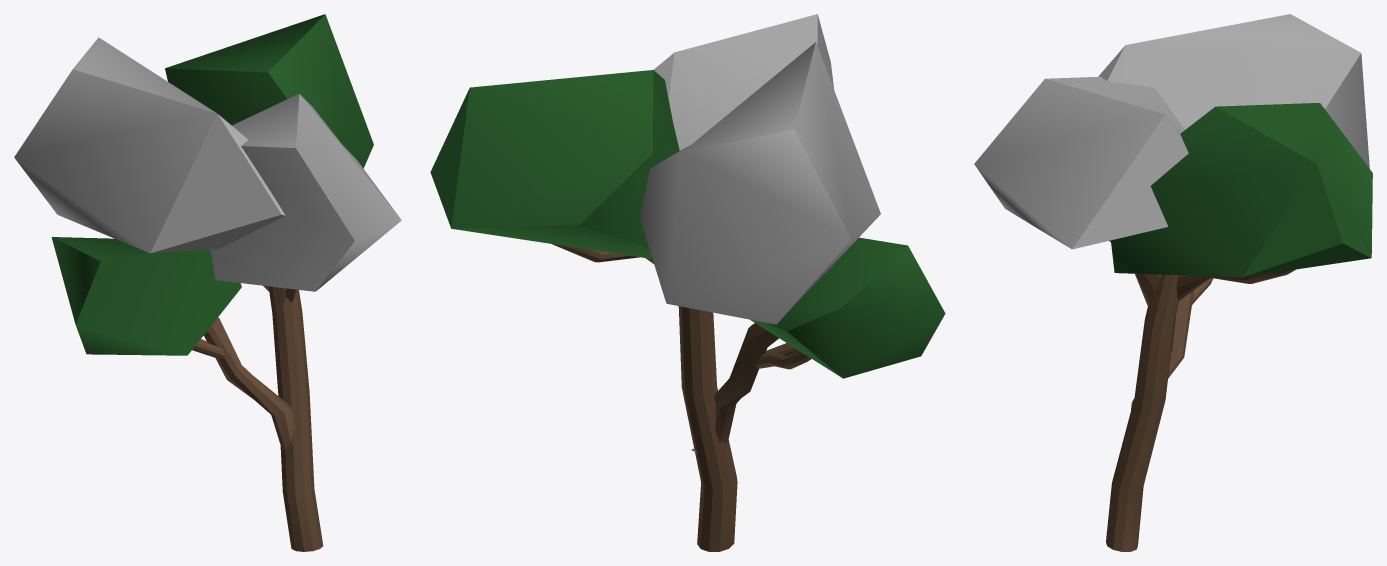
The model's file is SM_ENV_SmallTree.fbx.
3 renders of one model, left to right at view 1: azimuth 30°, elevation 25°; view 2: azimuth 150°, elevation 25°; view 3: azimuth 270°, elevation 25°, orthographic. The views are drawn at different scales.
Parts seen in each view (by area): view 1: Tree_leafs, Tree_leafs3, Tree_leafs4, Tree_Leafs2, pCylinder1, pCylinder7; view 2: Tree_leafs, Tree_Leafs2, Tree_leafs4, Tree_leafs3, pCylinder1, pCylinder7, pCylinder8, pCylinder4; view 3: Tree_Leafs2, Tree_leafs3, Tree_leafs, pCylinder1, pCylinder7, pCylinder4, pCylinder2.
Boxes of the visible parts, <box> form: Tree_leafs: <box>14,37,285,253</box>; Tree_leafs3: <box>210,93,401,291</box>; Tree_leafs4: <box>51,237,241,355</box>; Tree_Leafs2: <box>165,14,373,168</box>; pCylinder1: <box>268,286,323,551</box>; pCylinder7: <box>203,317,295,450</box>; Tree_leafs: <box>640,42,880,324</box>; Tree_Leafs2: <box>430,70,679,258</box>; Tree_leafs4: <box>750,237,945,378</box>; Tree_leafs3: <box>653,14,833,150</box>; pCylinder1: <box>678,306,737,551</box>; pCylinder7: <box>691,323,778,452</box>; pCylinder8: <box>756,350,811,369</box>; pCylinder4: <box>552,244,653,263</box>; Tree_Leafs2: <box>1111,103,1372,277</box>; Tree_leafs3: <box>974,76,1188,249</box>; Tree_leafs: <box>1098,14,1369,168</box>; pCylinder1: <box>1106,274,1178,551</box>; pCylinder7: <box>1131,290,1193,459</box>; pCylinder4: <box>1176,269,1295,300</box>; pCylinder2: <box>1109,240,1160,306</box>.
Size of the model in its own units: 925 by 1148 by 905.
